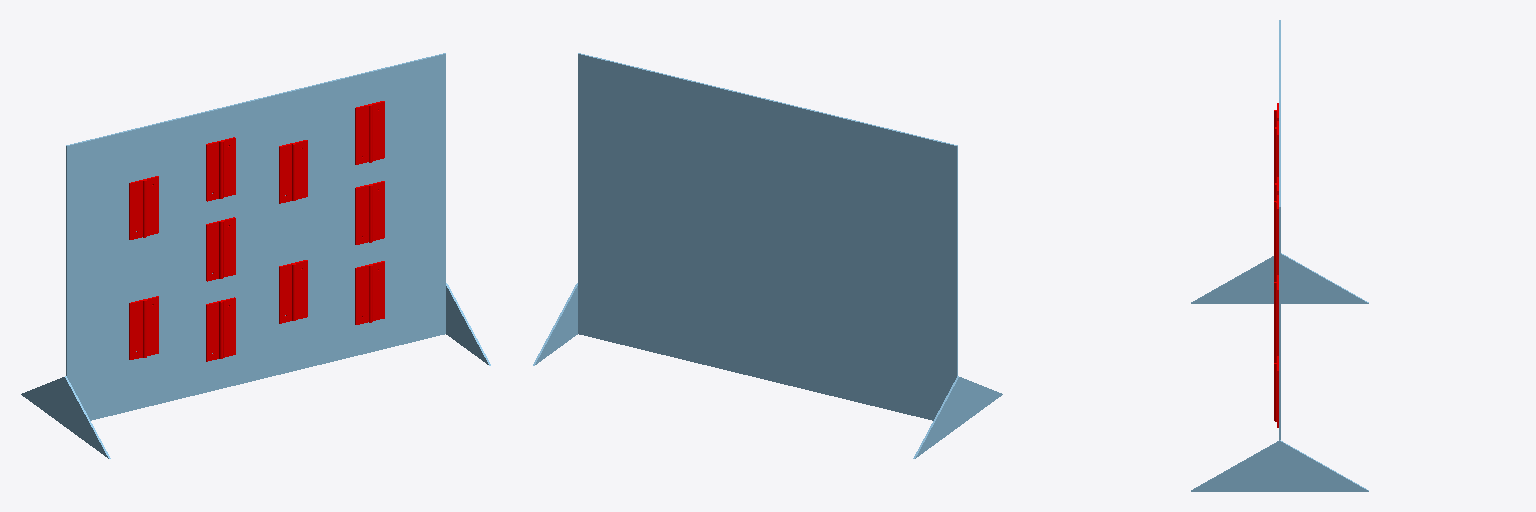
The robot description file, URDF, robot "onshape":
<robot name="onshape">
<link name="plate">
<visual>
<origin xyz="-0.1545 3.90313e-18 0.2575" rpy="-5.55486e-30 -1.5708 0" />
<geometry>
<mesh filename="package://openmanx_description/weldingsample/weldingsample.stl"/>
</geometry>
<material name="weldingsample_material">
<color rgba="1 0 0 1.0"/>
</material>
</visual>
<collision>
<origin xyz="-0.1545 3.90313e-18 0.2575" rpy="-5.55486e-30 -1.5708 0" />
<geometry>
<mesh filename="package://openmanx_description/weldingsample/weldingsample.stl"/>
</geometry>
<material name="weldingsample_material">
<color rgba="1 0 0 1.0"/>
</material>
</collision>
<visual>
<origin xyz="0.1995 3.90313e-18 0.2875" rpy="-1.44214e-29 -1.5708 0" />
<geometry>
<mesh filename="package://openmanx_description/weldingsample/weldingsample.stl"/>
</geometry>
<material name="weldingsample_material">
<color rgba="1 0 0 1.0"/>
</material>
</visual>
<collision>
<origin xyz="0.1995 3.90313e-18 0.2875" rpy="-1.44214e-29 -1.5708 0" />
<geometry>
<mesh filename="package://openmanx_description/weldingsample/weldingsample.stl"/>
</geometry>
<material name="weldingsample_material">
<color rgba="1 0 0 1.0"/>
</material>
</collision>
<visual>
<origin xyz="0.1995 3.90313e-18 0.1675" rpy="-2.42058e-30 -1.5708 0" />
<geometry>
<mesh filename="package://openmanx_description/weldingsample/weldingsample.stl"/>
</geometry>
<material name="weldingsample_material">
<color rgba="1 0 0 1.0"/>
</material>
</visual>
<collision>
<origin xyz="0.1995 3.90313e-18 0.1675" rpy="-2.42058e-30 -1.5708 0" />
<geometry>
<mesh filename="package://openmanx_description/weldingsample/weldingsample.stl"/>
</geometry>
<material name="weldingsample_material">
<color rgba="1 0 0 1.0"/>
</material>
</collision>
<visual>
<origin xyz="0.1995 3.90313e-18 0.0475" rpy="-7.93552e-31 -1.5708 0" />
<geometry>
<mesh filename="package://openmanx_description/weldingsample/weldingsample.stl"/>
</geometry>
<material name="weldingsample_material">
<color rgba="1 0 0 1.0"/>
</material>
</visual>
<collision>
<origin xyz="0.1995 3.90313e-18 0.0475" rpy="-7.93552e-31 -1.5708 0" />
<geometry>
<mesh filename="package://openmanx_description/weldingsample/weldingsample.stl"/>
</geometry>
<material name="weldingsample_material">
<color rgba="1 0 0 1.0"/>
</material>
</collision>
<visual>
<origin xyz="-0.1545 3.90313e-18 0.0775" rpy="-1.00604e-30 -1.5708 0" />
<geometry>
<mesh filename="package://openmanx_description/weldingsample/weldingsample.stl"/>
</geometry>
<material name="weldingsample_material">
<color rgba="1 0 0 1.0"/>
</material>
</visual>
<collision>
<origin xyz="-0.1545 3.90313e-18 0.0775" rpy="-1.00604e-30 -1.5708 0" />
<geometry>
<mesh filename="package://openmanx_description/weldingsample/weldingsample.stl"/>
</geometry>
<material name="weldingsample_material">
<color rgba="1 0 0 1.0"/>
</material>
</collision>
<visual>
<origin xyz="-0.0345 3.90313e-18 0.1675" rpy="2.5346e-30 -1.5708 0" />
<geometry>
<mesh filename="package://openmanx_description/weldingsample/weldingsample.stl"/>
</geometry>
<material name="weldingsample_material">
<color rgba="1 0 0 1.0"/>
</material>
</visual>
<collision>
<origin xyz="-0.0345 3.90313e-18 0.1675" rpy="2.5346e-30 -1.5708 0" />
<geometry>
<mesh filename="package://openmanx_description/weldingsample/weldingsample.stl"/>
</geometry>
<material name="weldingsample_material">
<color rgba="1 0 0 1.0"/>
</material>
</collision>
<visual>
<origin xyz="0.0795 3.90313e-18 0.0775" rpy="-7.93552e-31 -1.5708 0" />
<geometry>
<mesh filename="package://openmanx_description/weldingsample/weldingsample.stl"/>
</geometry>
<material name="weldingsample_material">
<color rgba="1 0 0 1.0"/>
</material>
</visual>
<collision>
<origin xyz="0.0795 3.90313e-18 0.0775" rpy="-7.93552e-31 -1.5708 0" />
<geometry>
<mesh filename="package://openmanx_description/weldingsample/weldingsample.stl"/>
</geometry>
<material name="weldingsample_material">
<color rgba="1 0 0 1.0"/>
</material>
</collision>
<visual>
<origin xyz="0.0795 3.90313e-18 0.2575" rpy="-7.93552e-31 -1.5708 0" />
<geometry>
<mesh filename="package://openmanx_description/weldingsample/weldingsample.stl"/>
</geometry>
<material name="weldingsample_material">
<color rgba="1 0 0 1.0"/>
</material>
</visual>
<collision>
<origin xyz="0.0795 3.90313e-18 0.2575" rpy="-7.93552e-31 -1.5708 0" />
<geometry>
<mesh filename="package://openmanx_description/weldingsample/weldingsample.stl"/>
</geometry>
<material name="weldingsample_material">
<color rgba="1 0 0 1.0"/>
</material>
</collision>
<visual>
<origin xyz="-0.297 0.0015 -1.66533e-16" rpy="-2.42861e-16 -1.83697e-16 -1.5708" />
<geometry>
<mesh filename="package://openmanx_description/weldingsample/stand.stl"/>
</geometry>
<material name="stand_material">
<color rgba="0.615686 0.811765 0.929412 1.0"/>
</material>
</visual>
<collision>
<origin xyz="-0.297 0.0015 -1.66533e-16" rpy="-2.42861e-16 -1.83697e-16 -1.5708" />
<geometry>
<mesh filename="package://openmanx_description/weldingsample/stand.stl"/>
</geometry>
<material name="stand_material">
<color rgba="0.615686 0.811765 0.929412 1.0"/>
</material>
</collision>
<visual>
<origin xyz="-0.0345 3.90313e-18 0.2875" rpy="-7.93552e-31 -1.5708 0" />
<geometry>
<mesh filename="package://openmanx_description/weldingsample/weldingsample.stl"/>
</geometry>
<material name="weldingsample_material">
<color rgba="1 0 0 1.0"/>
</material>
</visual>
<collision>
<origin xyz="-0.0345 3.90313e-18 0.2875" rpy="-7.93552e-31 -1.5708 0" />
<geometry>
<mesh filename="package://openmanx_description/weldingsample/weldingsample.stl"/>
</geometry>
<material name="weldingsample_material">
<color rgba="1 0 0 1.0"/>
</material>
</collision>
<visual>
<origin xyz="-0.0345 3.90313e-18 0.0475" rpy="-7.93552e-31 -1.5708 0" />
<geometry>
<mesh filename="package://openmanx_description/weldingsample/weldingsample.stl"/>
</geometry>
<material name="weldingsample_material">
<color rgba="1 0 0 1.0"/>
</material>
</visual>
<collision>
<origin xyz="-0.0345 3.90313e-18 0.0475" rpy="-7.93552e-31 -1.5708 0" />
<geometry>
<mesh filename="package://openmanx_description/weldingsample/weldingsample.stl"/>
</geometry>
<material name="weldingsample_material">
<color rgba="1 0 0 1.0"/>
</material>
</collision>
<visual>
<origin xyz="0.297 0.003 5.55112e-17" rpy="-7.93552e-31 -1.5708 0" />
<geometry>
<mesh filename="package://openmanx_description/weldingsample/plate.stl"/>
</geometry>
<material name="plate_material">
<color rgba="0.615686 0.811765 0.929412 1.0"/>
</material>
</visual>
<collision>
<origin xyz="0.297 0.003 5.55112e-17" rpy="-7.93552e-31 -1.5708 0" />
<geometry>
<mesh filename="package://openmanx_description/weldingsample/plate.stl"/>
</geometry>
<material name="plate_material">
<color rgba="0.615686 0.811765 0.929412 1.0"/>
</material>
</collision>
<visual>
<origin xyz="0.3 0.0015 5.55112e-17" rpy="-2.42861e-16 -1.83697e-16 -1.5708" />
<geometry>
<mesh filename="package://openmanx_description/weldingsample/stand.stl"/>
</geometry>
<material name="stand_material">
<color rgba="0.615686 0.811765 0.929412 1.0"/>
</material>
</visual>
<collision>
<origin xyz="0.3 0.0015 5.55112e-17" rpy="-2.42861e-16 -1.83697e-16 -1.5708" />
<geometry>
<mesh filename="package://openmanx_description/weldingsample/stand.stl"/>
</geometry>
<material name="stand_material">
<color rgba="0.615686 0.811765 0.929412 1.0"/>
</material>
</collision>
<inertial>
<origin xyz="0.00376822 0.000475117 0.20146" rpy="0 0 0"/>
<mass value="3.15838" />
<inertia ixx="0.0443926" ixy="2.6646e-05"  ixz="-0.000100288" iyy="0.133695" iyz="2.76442e-05" izz="0.0900224" />
</inertial>
</link>


</robot>

--- Facts derived from the render (not from the file) ---
3 views of the same robot in one strip: view 1: azimuth 30°, elevation 25°; view 2: azimuth 150°, elevation 25°; view 3: azimuth 270°, elevation 25° (orthographic).
Model onshape with 1 links and 0 joints (none), rooted at plate, posed every joint at zero.
Visible links, largest first — view 1: plate; view 2: plate; view 3: plate.
Boxes of the visible links, x1,y1,x2,y2 form: plate: (21,53,490,458); plate: (533,53,1002,458); plate: (1191,20,1368,491).
Size in the robot's own frame: 0.6 by 0.24 by 0.42 metres.
13 mesh visuals loaded from 3 distinct referenced files (3 binary STL).